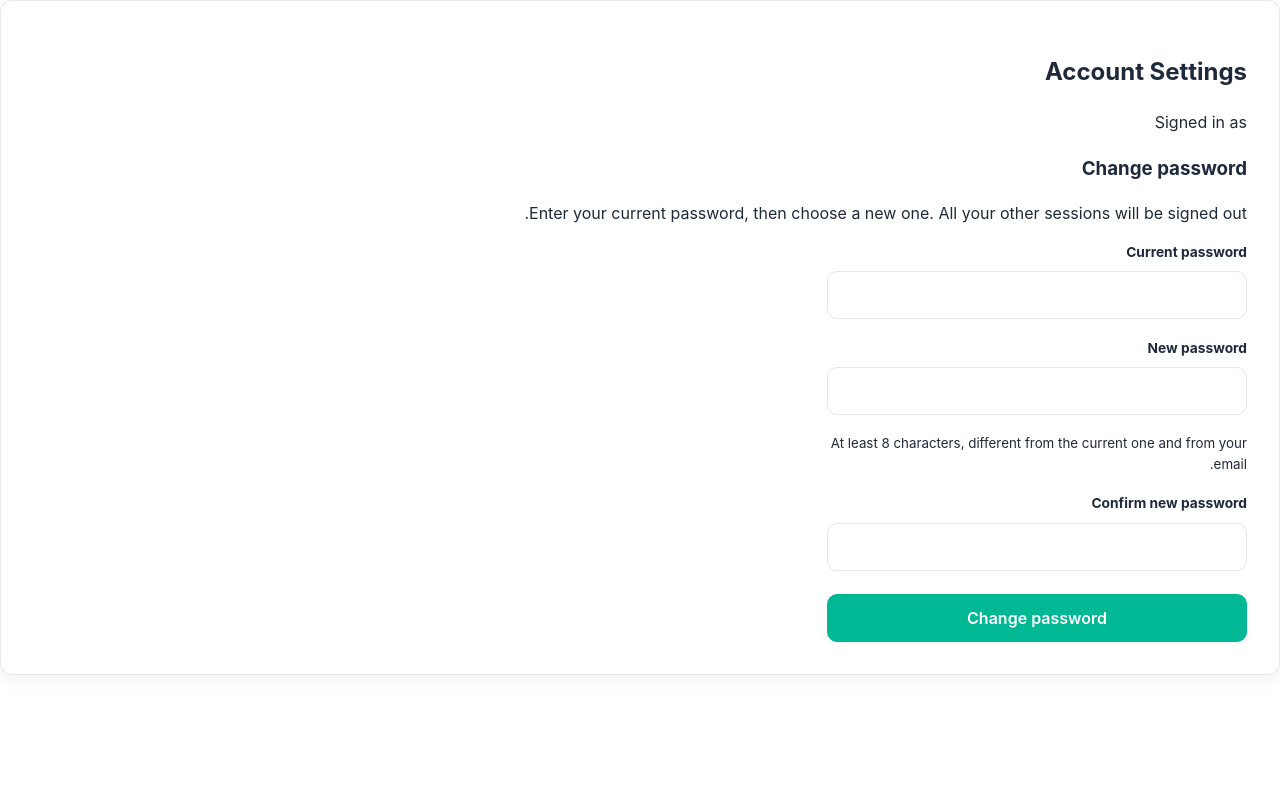
Test: Account Settings password change › shows a clear message for a wrong current password in Arabic and English
Type "wrong-pass-1" into the password field labelled "Current password".
click(1037, 295); type("wrong-pass-1")  # box [827,271,1247,319]
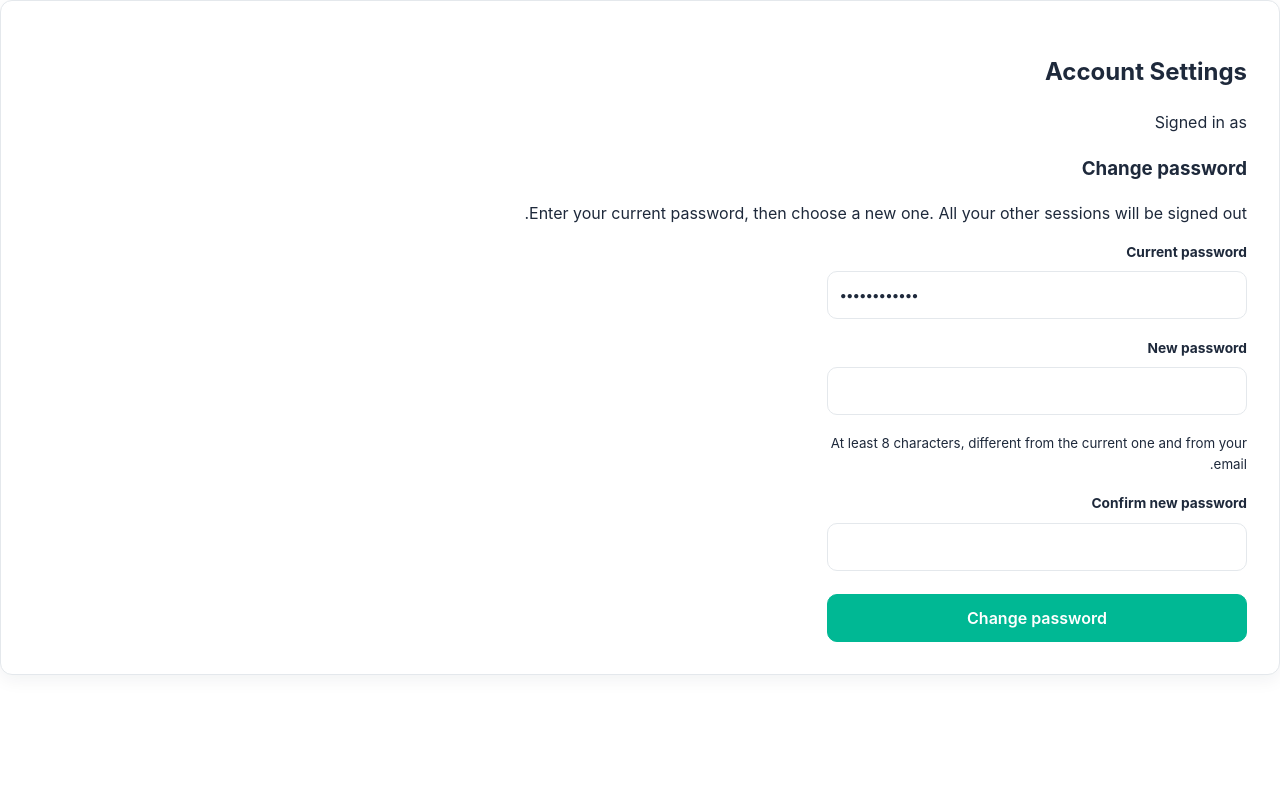
Type "Brand-new-pass-1" into the password field labelled "New password".
click(1037, 391); type("Brand-new-pass-1")  # box [827,367,1247,415]
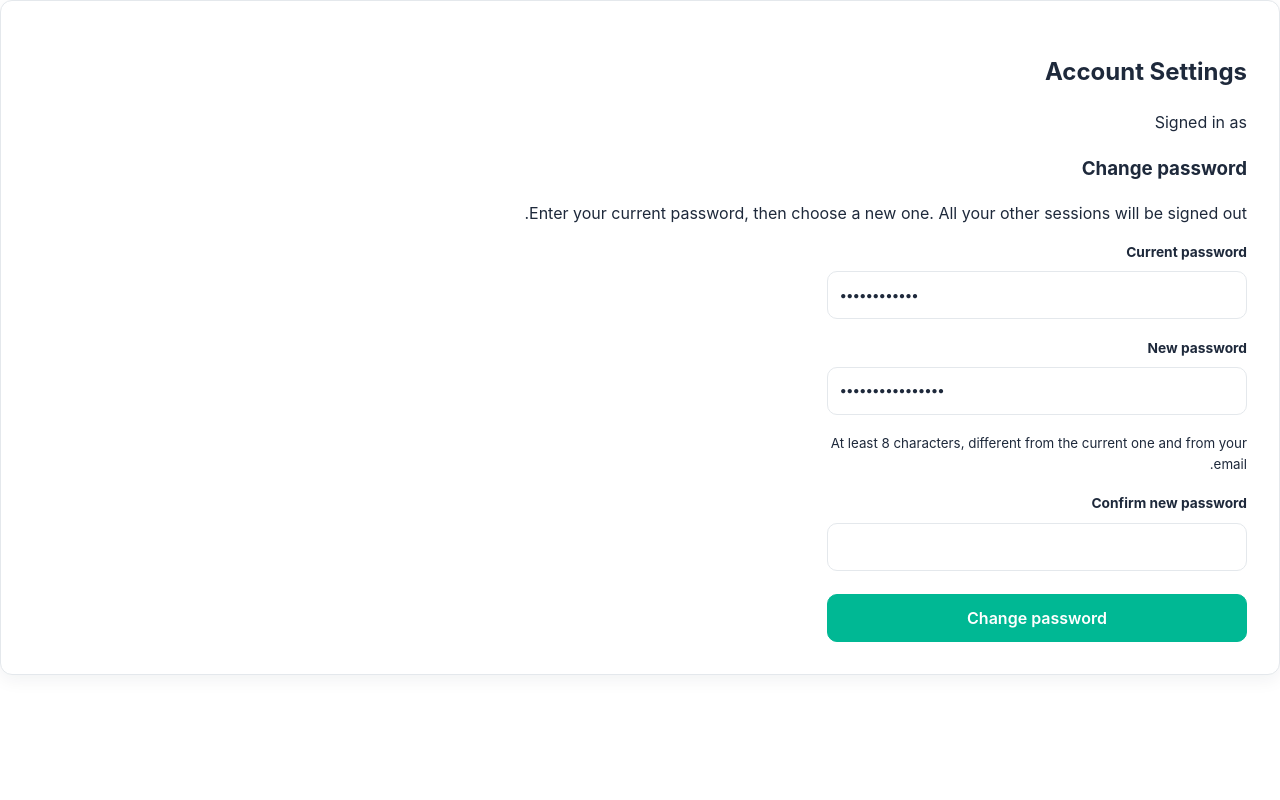
Type "Brand-new-pass-1" into the password field labelled "Confirm new password".
click(1037, 546); type("Brand-new-pass-1")  # box [827,522,1247,570]
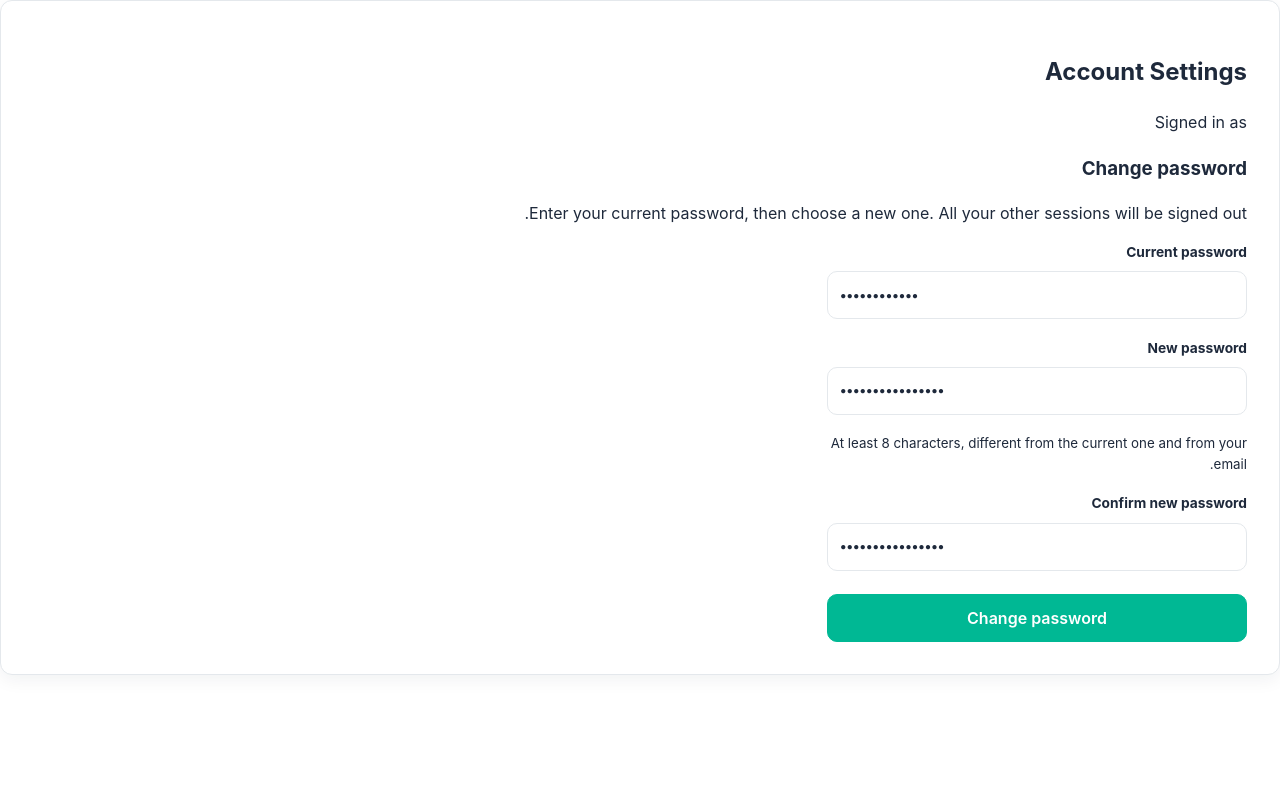
Click the button "Change password".
click(1037, 618)  # box [827,594,1247,642]
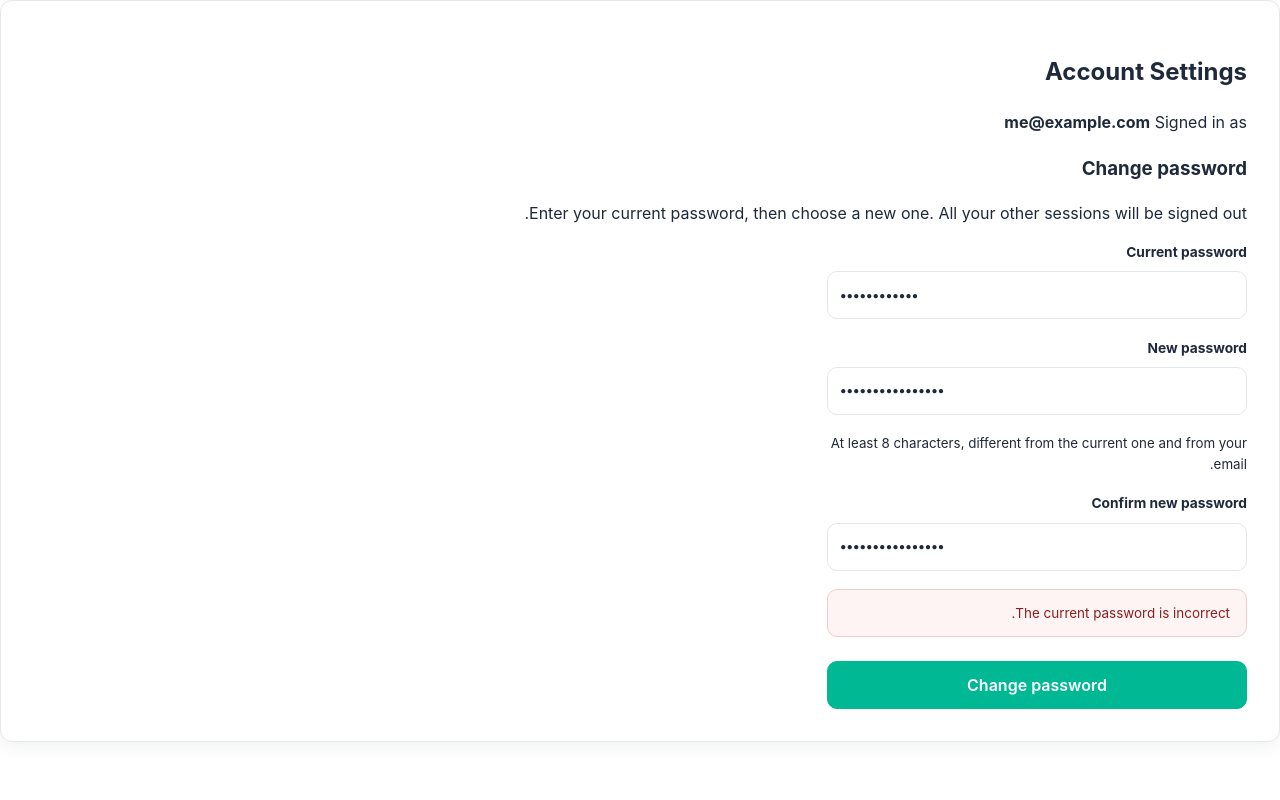
Now the message shows "current password is incorrect", box [1011,605,1230,621]
